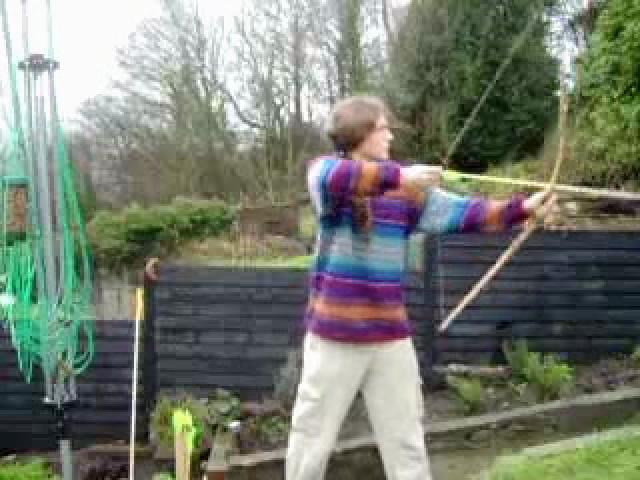I: (295, 76, 570, 480)
